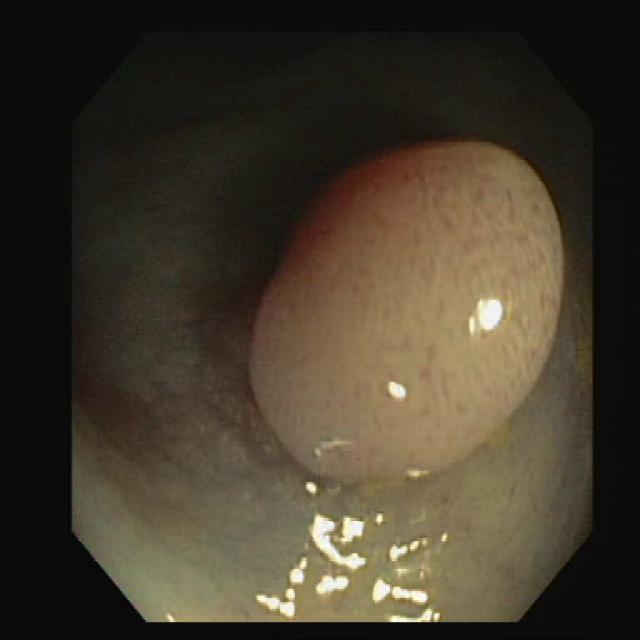tumor: (250, 140, 560, 480)
